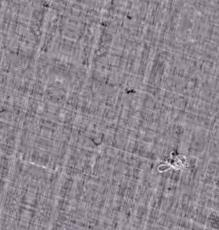snag: (156, 148, 191, 179)
